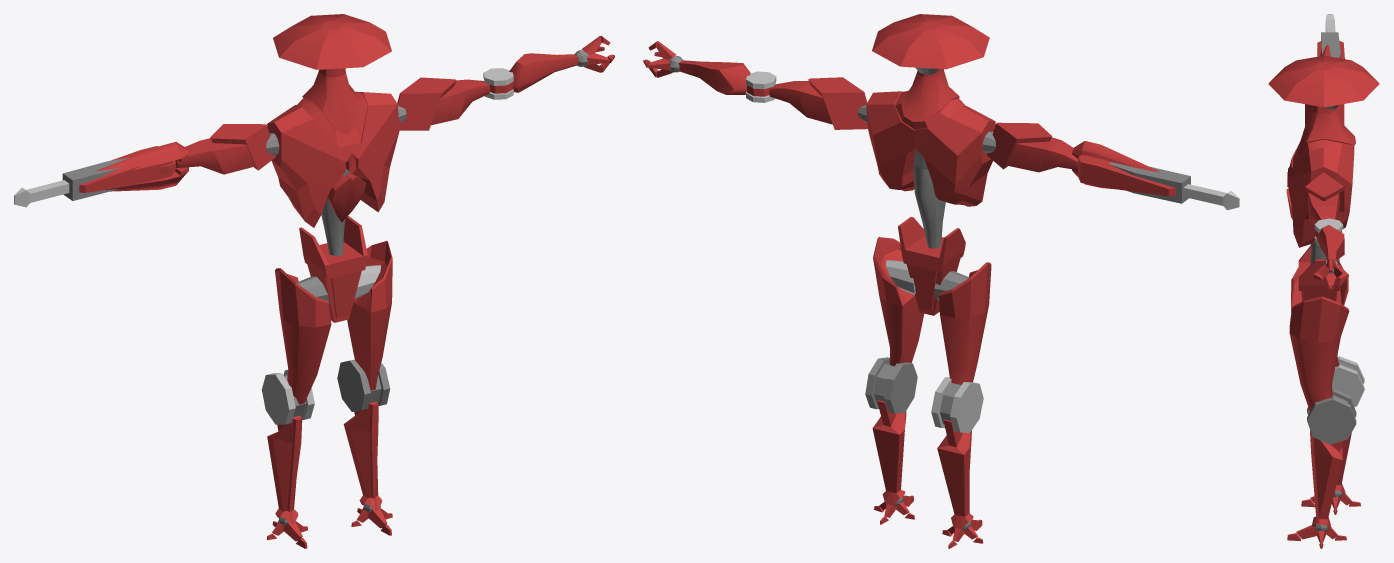
Rendered from BrawlerBasic.fbx.
3 views of the same model, side by side, from view 1: azimuth 30°, elevation 25°; view 2: azimuth 150°, elevation 25°; view 3: azimuth 270°, elevation 25° (orthographic). The views are drawn at different scales.
Visible parts, largest first — view 1: bust, thigh (×2), helmet, groin, left_bicep, right_bicep, polySurface2, pCube13, forearm, pCube31, knee_gear_1, knee_gear_2 (+5 smaller); view 2: bust, thigh (×2), helmet, left_bicep, groin, right_bicep, pCube13, polySurface2, pCube31, spine, forearm, knee_gear_2 (+4 smaller); view 3: bust, thigh (×2), helmet, polySurface2, knee_gear_1 (×2), left_bicep, groin, knee_gear_2 (×2), forearm, pCube29, pCube13, gear_1 (+4 smaller).
Boxes of the visible parts, <box> form: bust: <box>267,68,399,227</box>; thigh (×2): <box>275,241,392,404</box>; helmet: <box>273,14,391,69</box>; groin: <box>299,216,367,322</box>; left_bicep: <box>397,77,512,130</box>; right_bicep: <box>159,124,275,174</box>; polySurface2: <box>343,401,382,511</box>; pCube13: <box>267,415,302,523</box>; forearm: <box>509,53,578,92</box>; pCube31: <box>79,146,172,192</box>; knee_gear_1: <box>261,373,295,424</box>; knee_gear_2: <box>337,359,370,411</box>; bust: <box>866,69,995,206</box>; thigh (×2): <box>873,237,991,384</box>; helmet: <box>872,14,989,69</box>; left_bicep: <box>747,77,867,129</box>; groin: <box>898,217,965,315</box>; right_bicep: <box>987,122,1078,172</box>; pCube13: <box>937,419,973,528</box>; polySurface2: <box>872,400,906,505</box>; pCube31: <box>1078,155,1176,196</box>; spine: <box>913,149,945,248</box>; forearm: <box>679,60,750,94</box>; knee_gear_2: <box>884,362,917,413</box>; bust: <box>1288,105,1355,247</box>; thigh (×2): <box>1289,262,1349,411</box>; helmet: <box>1268,55,1379,107</box>; polySurface2: <box>1310,430,1344,528</box>; knee_gear_1 (×2): <box>1307,356,1364,444</box>; left_bicep: <box>1305,172,1344,237</box>; groin: <box>1298,246,1339,301</box>; knee_gear_2 (×2): <box>1307,365,1364,417</box>; forearm: <box>1316,225,1344,260</box>; pCube29: <box>1321,32,1340,57</box>; pCube13: <box>1335,433,1351,494</box>; gear_1: <box>1314,218,1343,232</box>.
Bounding box in the file's own units: 25.05 × 20.26 × 4.49.
